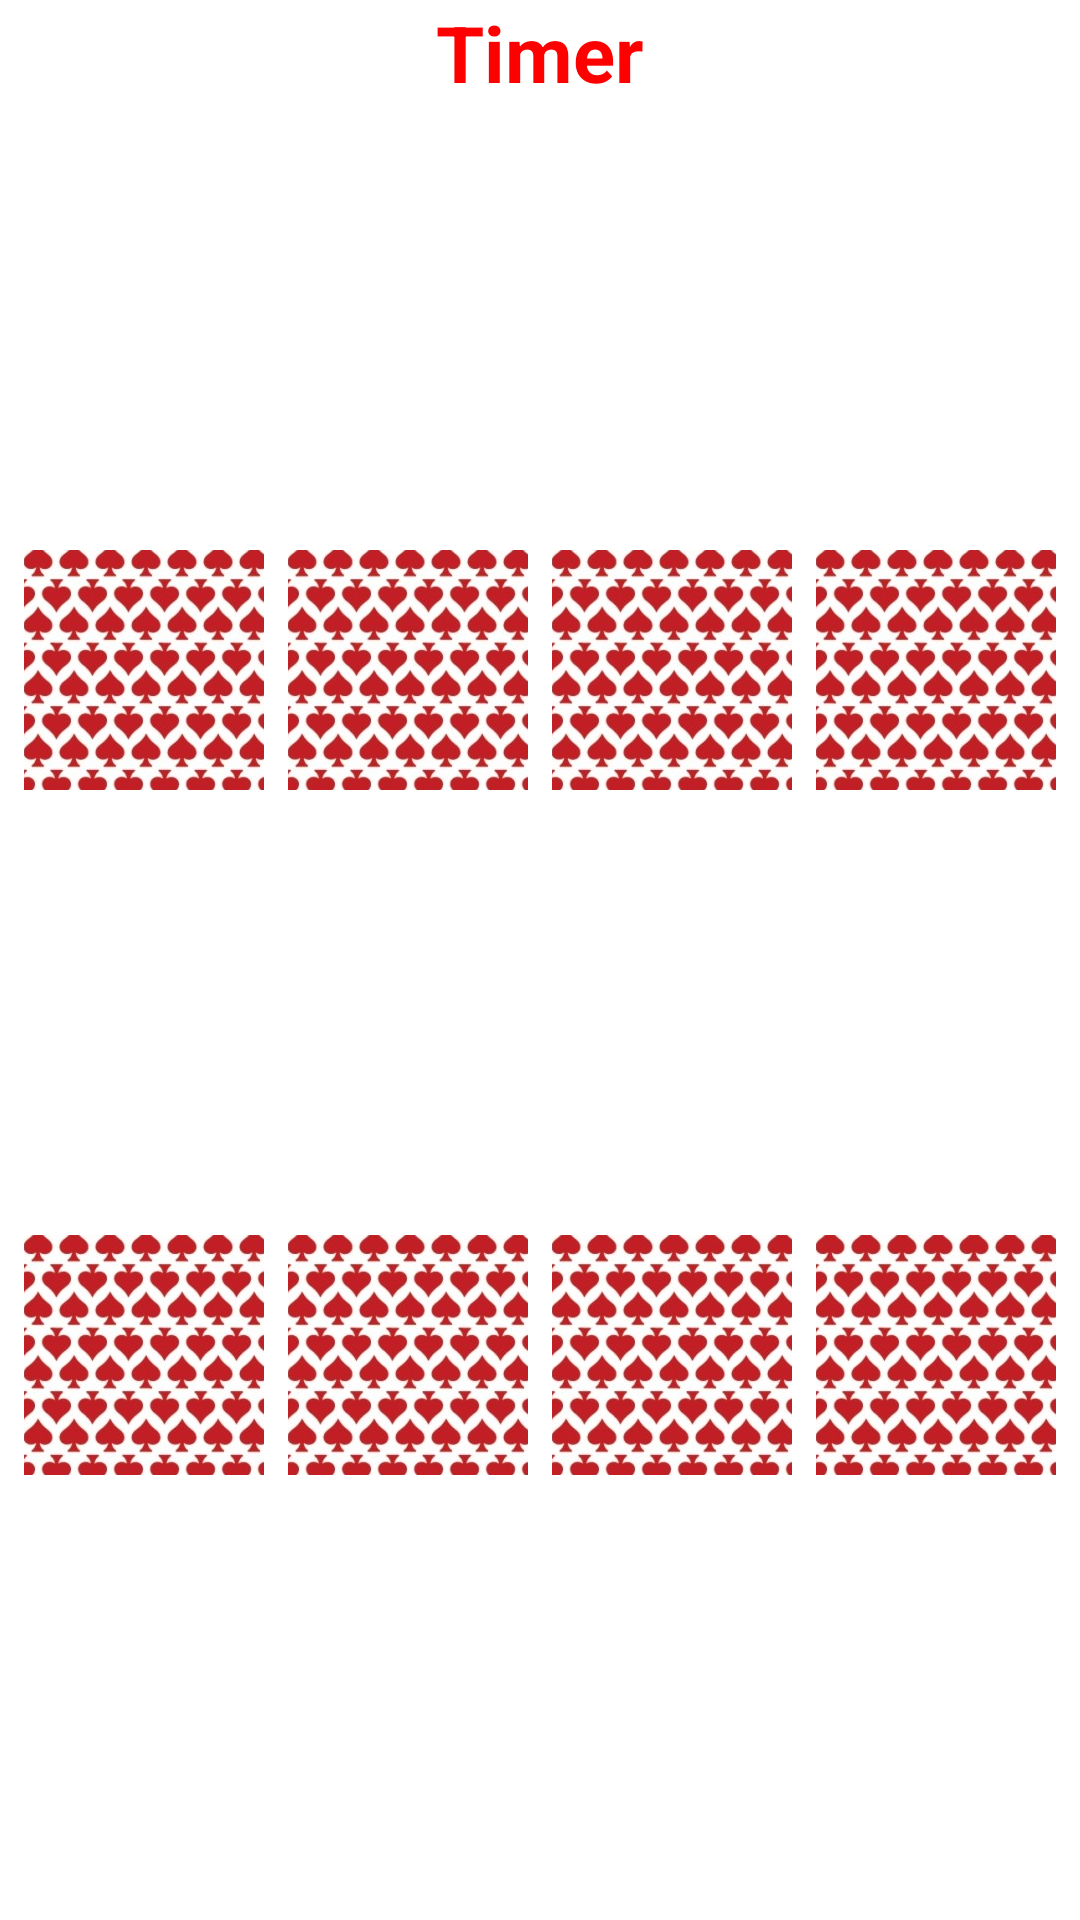

Icons on this 1080 × 1920 Android screen, each with the point to tap as point (x, y):
card: point (144, 670), point (408, 670), point (672, 670), point (936, 670), point (144, 1355), point (408, 1355), point (672, 1355), point (936, 1355)
